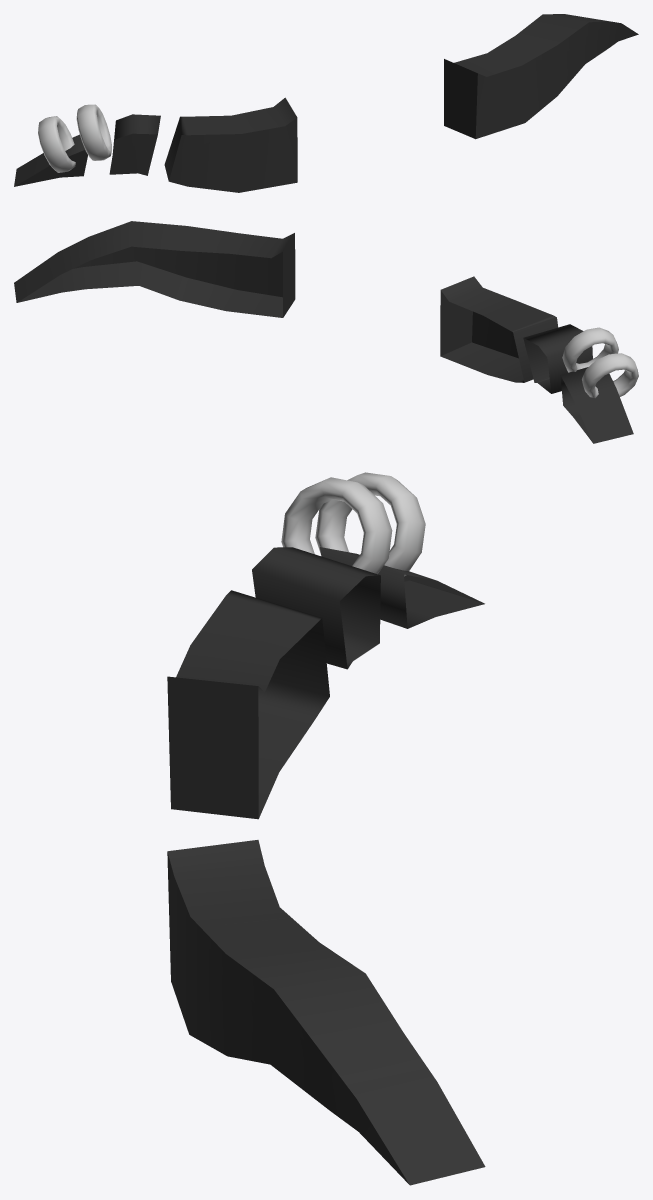
The model's file is Eyebrow_17.fbx.
The picture shows the model from 3 angles, top to bottom: view 1: azimuth 30°, elevation 25°; view 2: azimuth 150°, elevation 25°; view 3: azimuth 270°, elevation 25°; orthographic projection. The views are drawn at different scales.
Visible parts, largest first — view 1: Eyebrow_17; view 2: Eyebrow_17; view 3: Eyebrow_17.
Part boxes in pixels (x1,y1,x2,y2): Eyebrow_17: [14, 14, 638, 192]; Eyebrow_17: [14, 221, 638, 443]; Eyebrow_17: [167, 472, 485, 1185].
Bounding box in the file's own units: 37.59 × 5 × 8.36.
